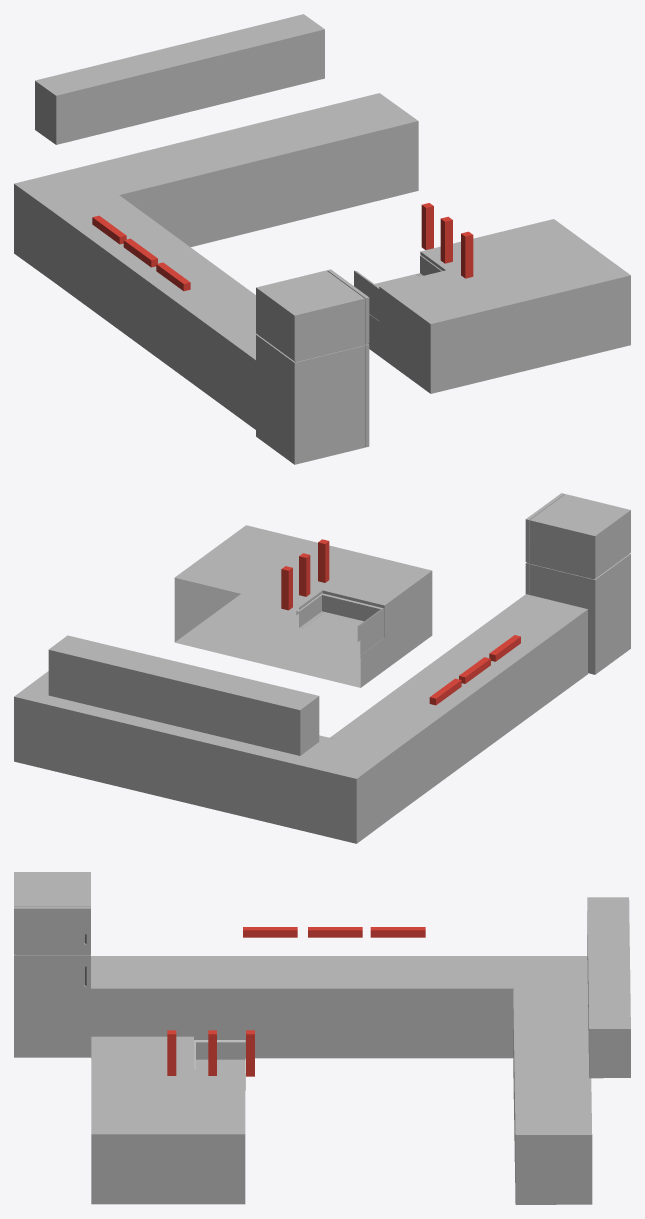
The model's file is base-kitchen.glb.
3 views of the same model, one above another, from view 1: azimuth 30°, elevation 25°; view 2: azimuth 150°, elevation 25°; view 3: azimuth 270°, elevation 25° (orthographic). The views are drawn at different scales.
Parts seen in each view (by area): view 1: Back .001, Middle Block, Back, Back .002, Fridge, Cinque; view 2: Back .001, Middle Block, Back, Back .002, Fridge, Cinque, Cube, Cube.001, Cube.002; view 3: Back, Middle Block, Back .001, Fridge, Back .002, Cinque, Cube.005, Cube.003, Cube.004.
Part boxes in pixels (x1,y1,x2,y2): Back .001: (14, 93, 418, 280); Middle Block: (368, 219, 630, 393); Back: (52, 195, 256, 429); Back .002: (35, 14, 324, 144); Fridge: (256, 269, 369, 464); Cinque: (354, 255, 442, 320); Back .001: (14, 671, 391, 843); Middle Block: (174, 525, 432, 687); Back: (330, 594, 587, 817); Back .002: (48, 635, 319, 755); Fridge: (525, 493, 630, 674); Cinque: (296, 593, 384, 657); Cube: (281, 566, 292, 610); Cube.001: (299, 553, 310, 596); Cube.002: (318, 539, 329, 582); Back: (91, 956, 512, 1058); Middle Block: (91, 1036, 245, 1204); Back .001: (512, 956, 592, 1204); Fridge: (14, 872, 90, 1057); Back .002: (587, 897, 630, 1078); Cinque: (194, 1040, 245, 1090); Cube.005: (370, 927, 425, 937); Cube.003: (243, 927, 297, 937); Cube.004: (308, 927, 362, 937).
Size of the model in its own units: 5.62 by 2.15 by 8.01.
